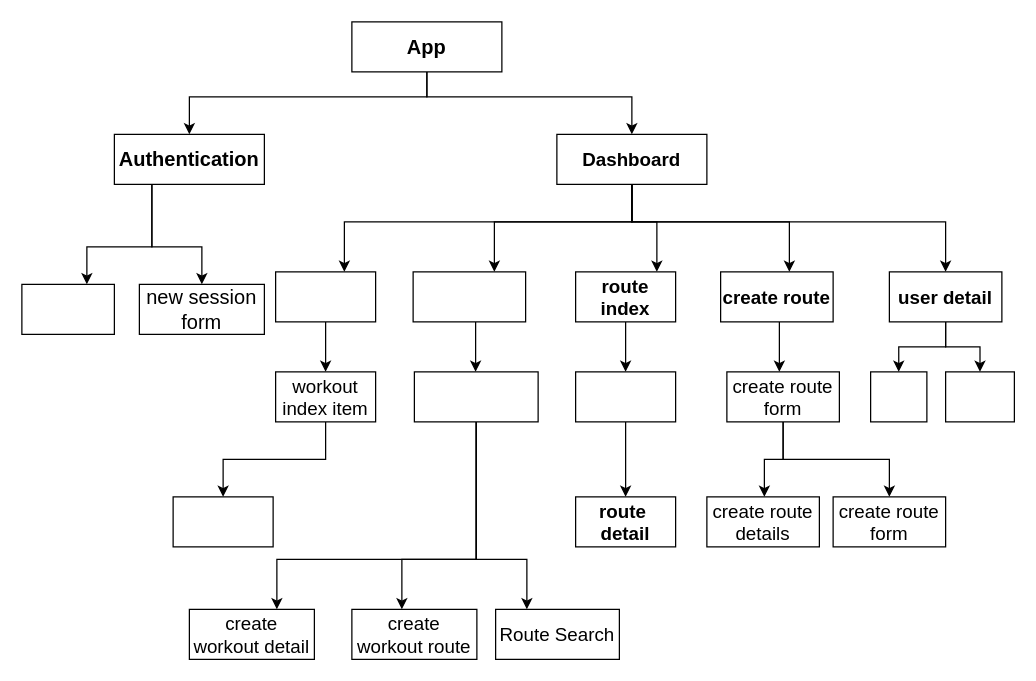
Image size: 1036x681. Some labels were removed from this diagram. Each missing label, with the centre of its shape:
"create workout" goes at [469,296].
"create workout form" goes at [475,396].
"friend info" goes at [979,396].
"new user form" goes at [67,308].
"route index item" goes at [625,396].
"user info" goes at [898,396].
"workout detail" goes at [222,521].
"workout index" goes at [325,296].
